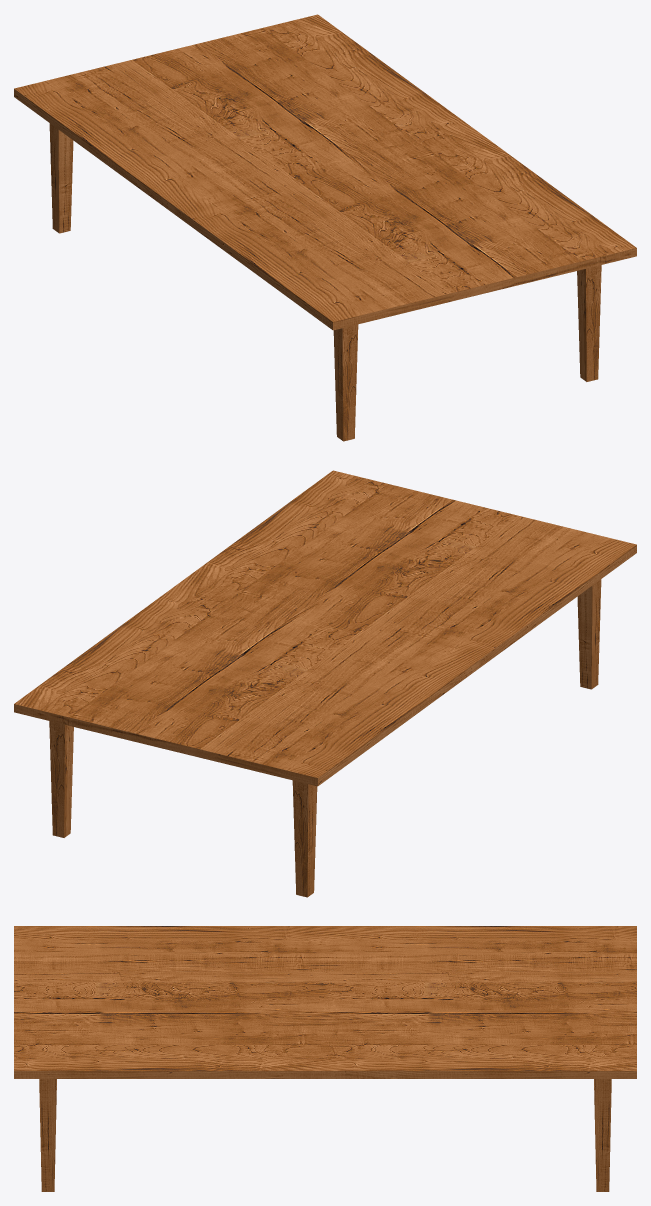
File: table_2.fbx
3 renders of one model, top to bottom at view 1: azimuth 30°, elevation 25°; view 2: azimuth 150°, elevation 25°; view 3: azimuth 270°, elevation 25°, orthographic. The views are drawn at different scales.
Parts seen in each view (by area): view 1: table_2; view 2: table_2; view 3: table_2.
Part boxes in pixels (x1=…): table_2: x1=14, y1=14, x2=636, y2=441; table_2: x1=14, y1=470, x2=636, y2=897; table_2: x1=14, y1=926, x2=636, y2=1191.
Size of the model in its own units: 2.01 by 0.8573 by 3.65.
